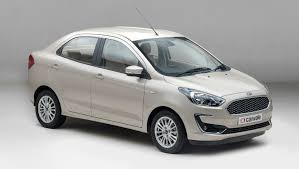Ford: (27, 25, 273, 151)
